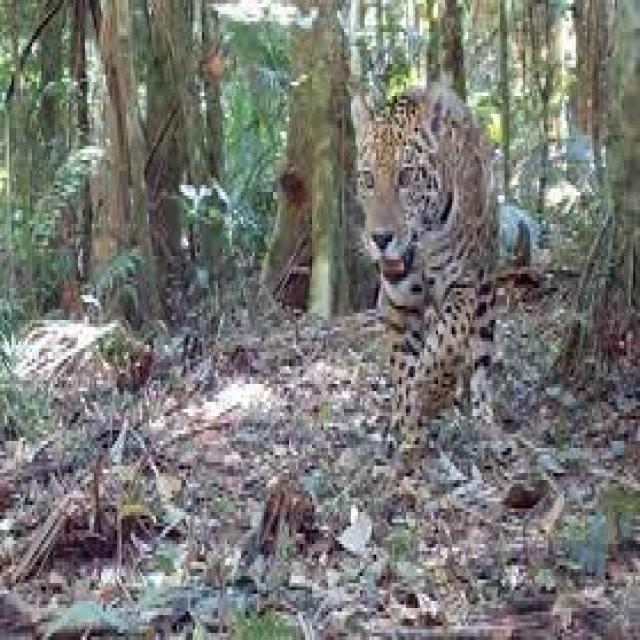Jaguar: (342, 82, 502, 448)
